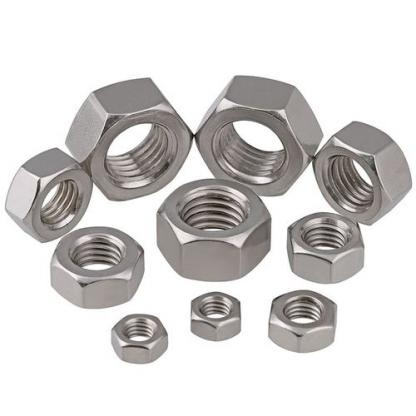FOD: (64, 66, 196, 204), (196, 71, 326, 200), (152, 176, 277, 282), (312, 119, 414, 225), (45, 222, 146, 310), (6, 148, 90, 246), (286, 210, 366, 284), (263, 287, 340, 354), (106, 310, 170, 364), (188, 290, 243, 344)
